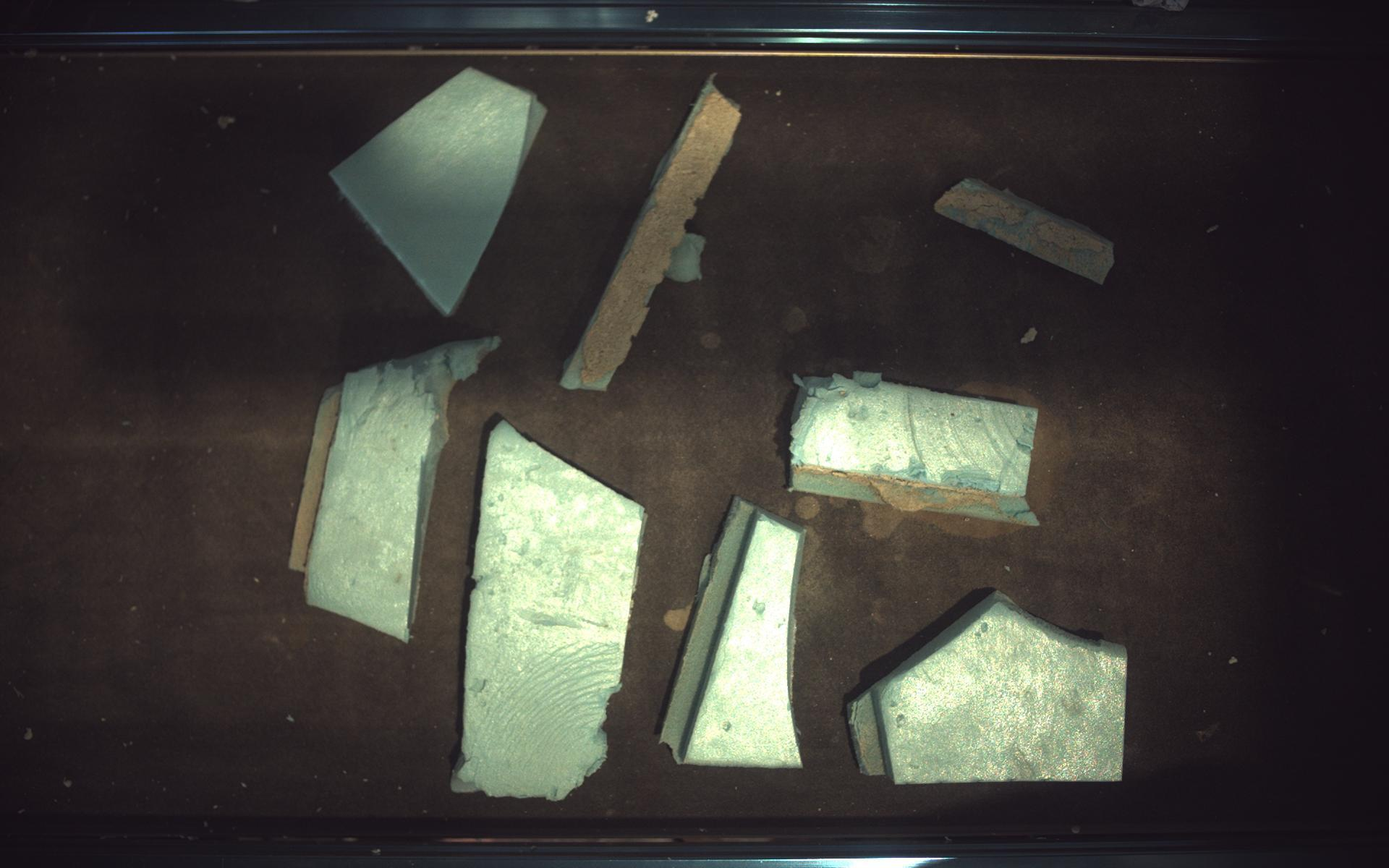foam: (453, 421, 645, 801), (289, 336, 500, 642), (561, 76, 742, 390), (850, 592, 1129, 786), (331, 67, 546, 315), (662, 498, 805, 769), (791, 372, 1040, 525), (936, 177, 1116, 284)
